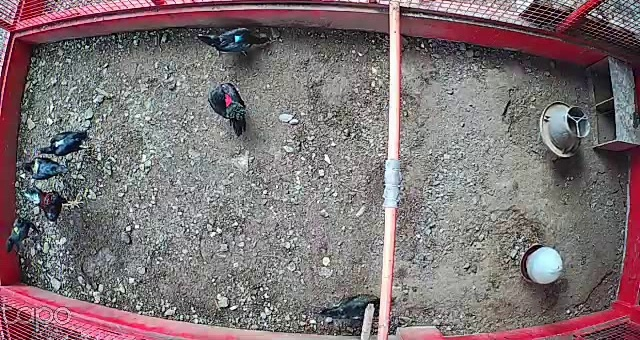Chicken: (196, 22, 274, 61), (206, 78, 251, 136), (33, 128, 92, 158), (2, 213, 44, 253), (20, 156, 74, 184)
Rooster: (20, 184, 83, 224)
Saddle_Color_Blue: (233, 34, 243, 43)
Saddle_Color_Red: (225, 93, 231, 108)
Saddle_Color_Yellow: (31, 159, 40, 174), (13, 226, 20, 234)
